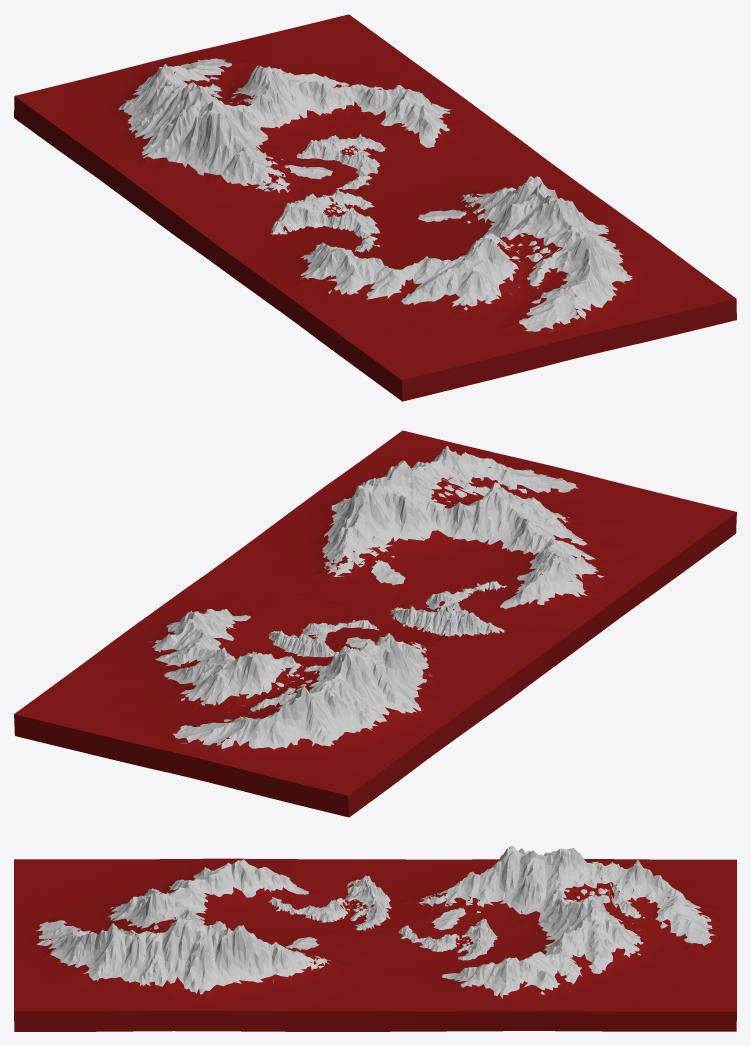
File: Motanha.fbx
3 renders of one model, top to bottom at view 1: azimuth 30°, elevation 25°; view 2: azimuth 150°, elevation 25°; view 3: azimuth 270°, elevation 25°, orthographic. The views are drawn at different scales.
Parts seen in each view (by area): view 1: Cube.001; view 2: Cube.001; view 3: Cube.001.
Part boxes in pixels (x1=…): Cube.001: x1=14, y1=14, x2=736, y2=401; Cube.001: x1=14, y1=430, x2=736, y2=817; Cube.001: x1=14, y1=846, x2=736, y2=1031.
Bounding box in the file's own units: 63656 × 14189 × 127662.
